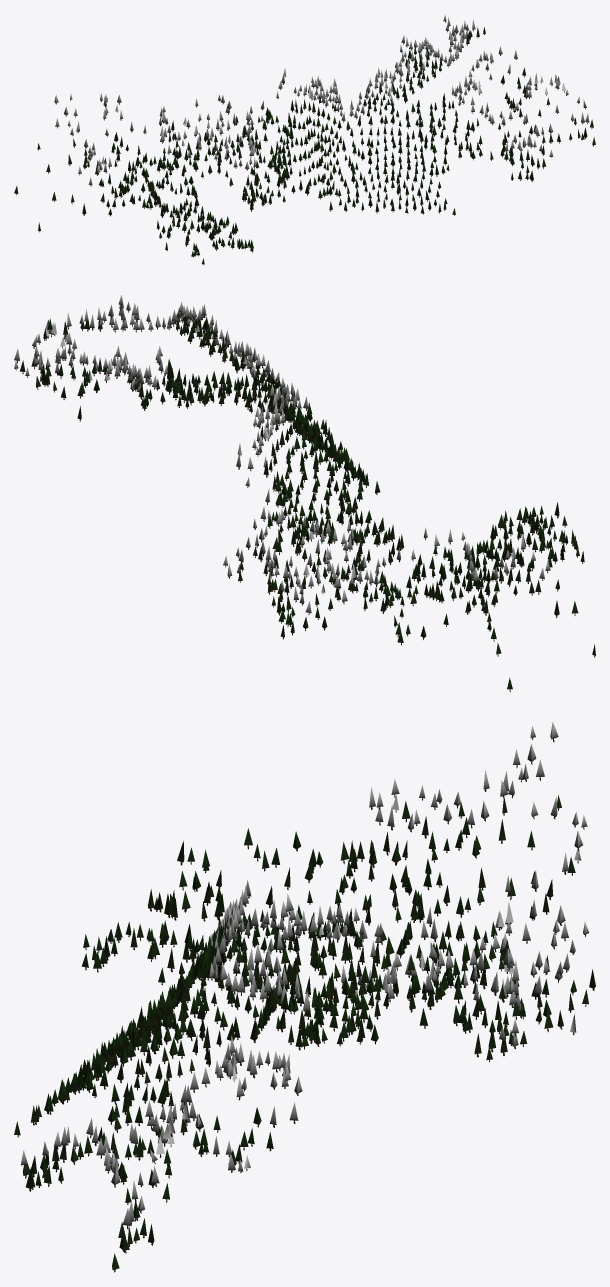
File: e_sierra_trees.fbx
3 renders of one model, top to bottom at view 1: azimuth 30°, elevation 25°; view 2: azimuth 150°, elevation 25°; view 3: azimuth 270°, elevation 25°, orthographic. The views are drawn at different scales.
Parts seen in each view (by area): view 1: e_trees_sierra; view 2: e_trees_sierra; view 3: e_trees_sierra.
Part boxes in pixels (x1,y1,x2,y2): e_trees_sierra: (14,14,595,264); e_trees_sierra: (14,295,595,692); e_trees_sierra: (14,721,595,1272).
Bounding box in the file's own units: 555 × 165 × 297.
